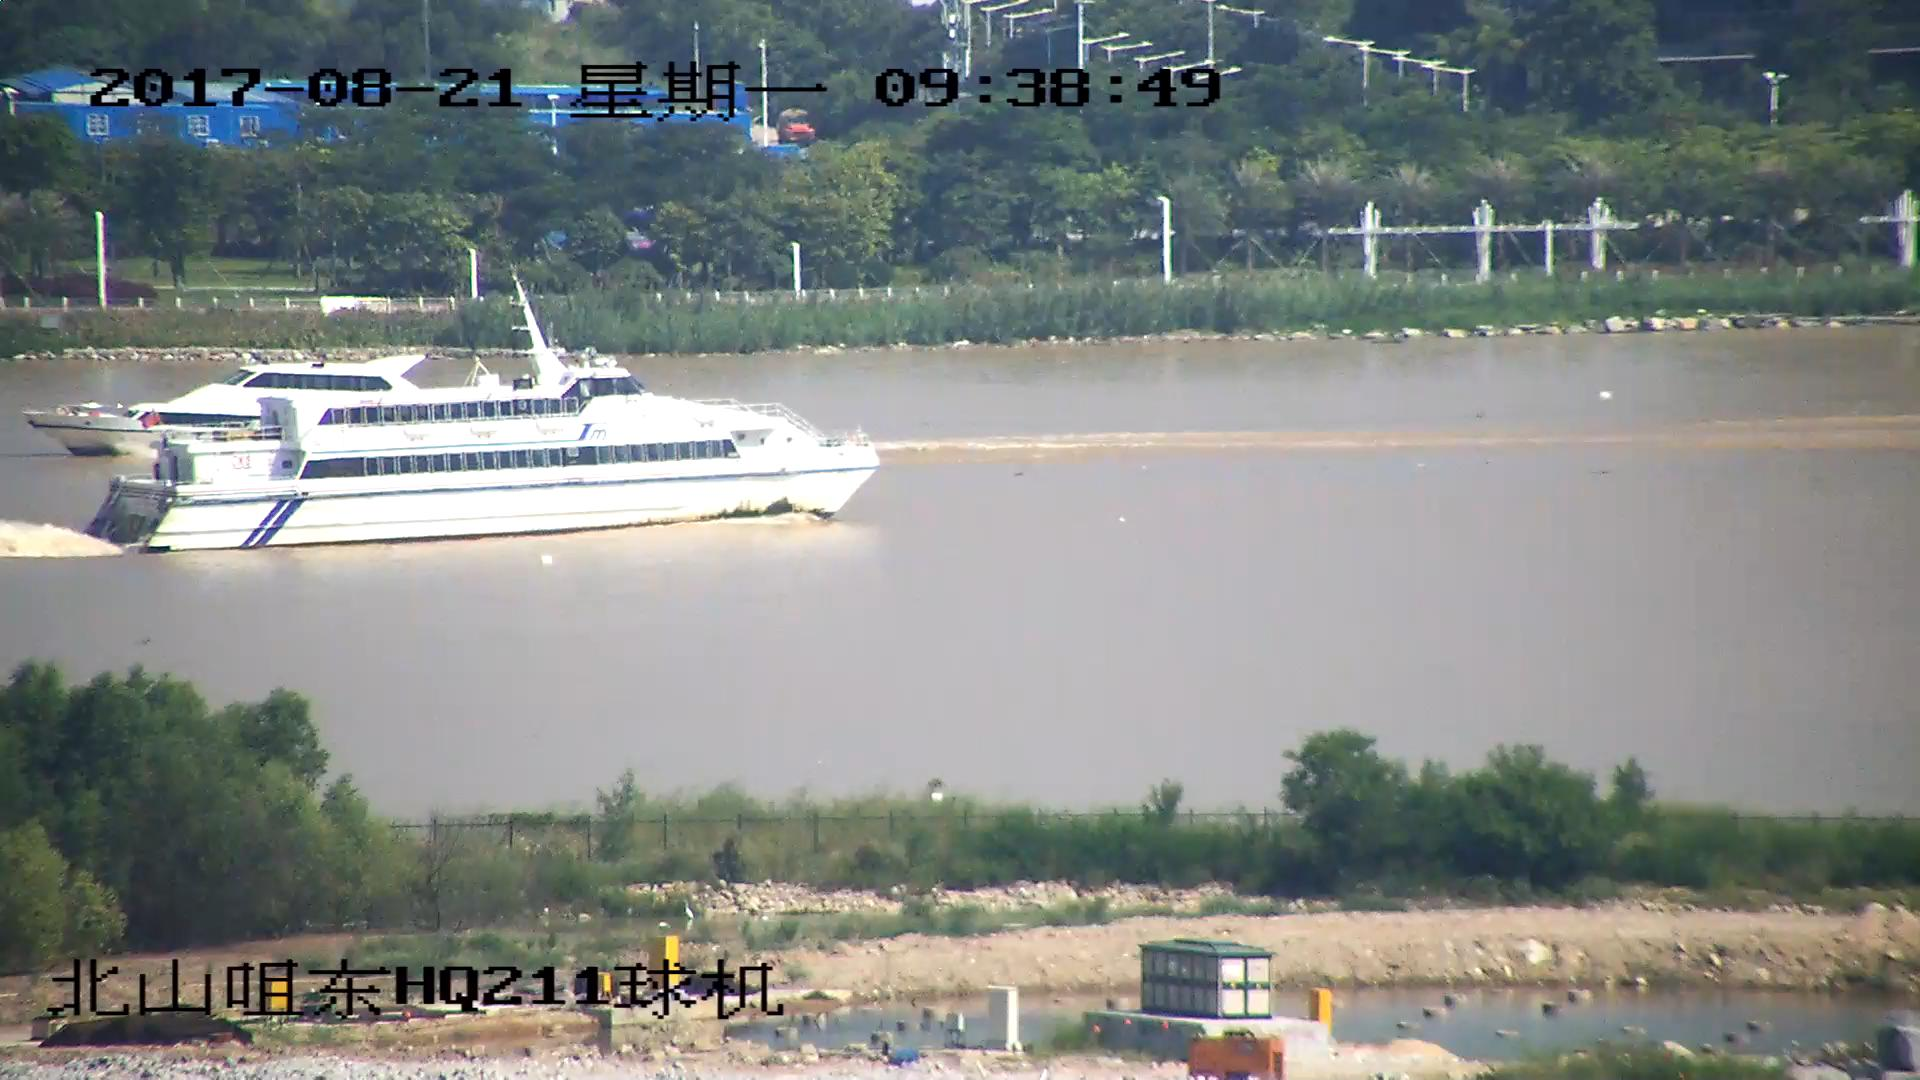passenger ship: (78, 275, 880, 553), (30, 355, 454, 461)
